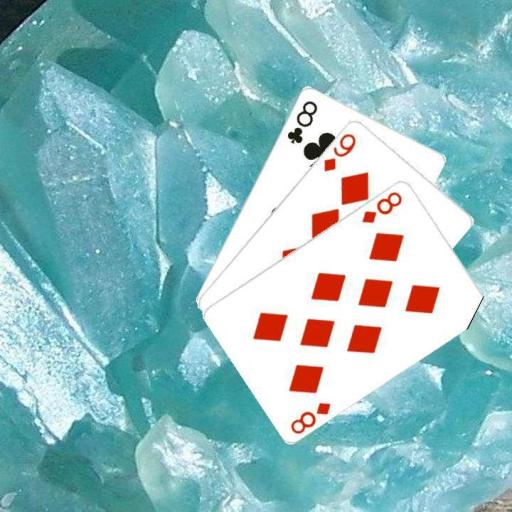card-corner: (287, 398, 333, 435), (284, 97, 319, 145), (320, 129, 358, 173), (358, 188, 404, 224)
